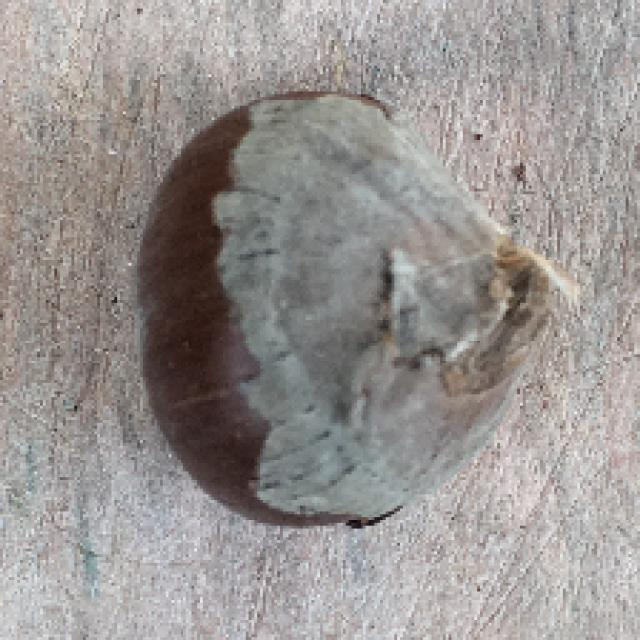damagedHazelnut: (130, 78, 560, 518)
